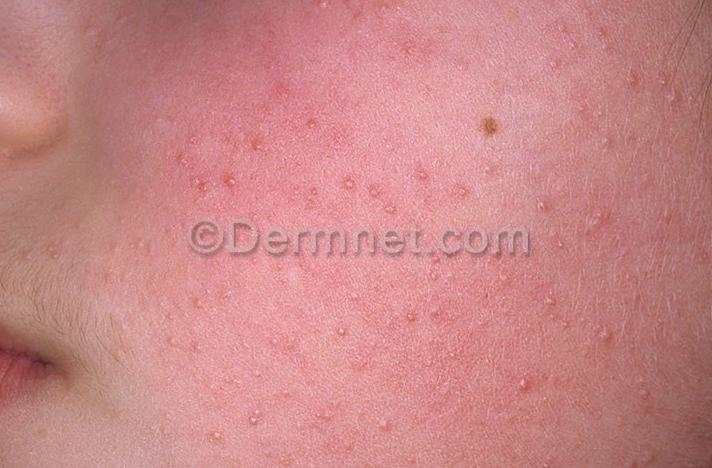edema 1: (147, 14, 668, 449)
